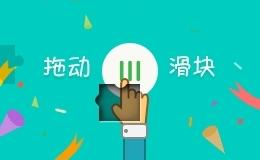target: (77, 64, 119, 104)
